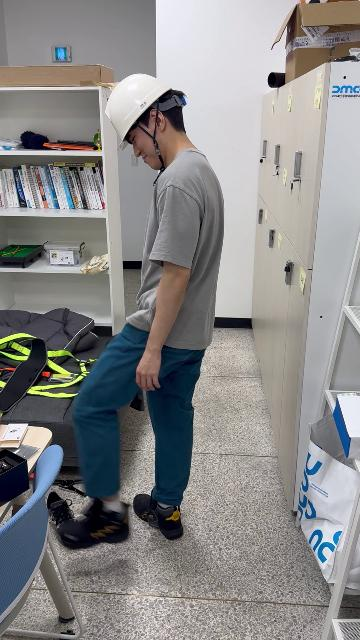helmet_worn: (103, 73, 175, 151)
shoe_not_worn: (46, 492, 73, 527)
shoe_worn: (50, 494, 128, 548), (134, 492, 184, 539)
vest_not_worn: (127, 167, 220, 354)
vest_worn: (0, 318, 102, 399)
